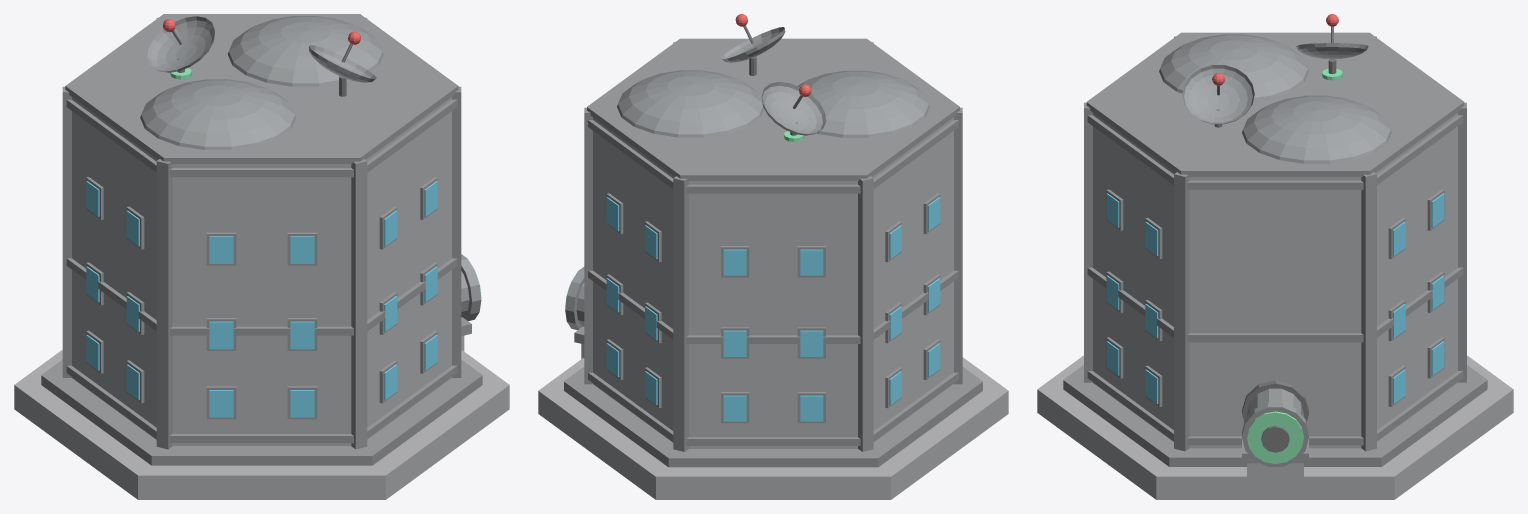
Rendered from analysis_center_s3_100.glb.
3 views of the same model, side by side, from view 1: azimuth 30°, elevation 25°; view 2: azimuth 150°, elevation 25°; view 3: azimuth 270°, elevation 25° (orthographic). The views are drawn at different scales.
Visible parts, largest first — view 1: AC_Walls, AC_Roof, AC_Base, AC_BaseCap, AC_Dome_B, AC_Dome_A, AC_Beam_3, AC_Beam_4, AC_Band_Low, AC_Band_High, AC_Band_Mid, AC_Beam_2 (+10 smaller); view 2: AC_Walls, AC_Roof, AC_Base, AC_BaseCap, AC_Dome_A, AC_Dome_B, AC_Beam_1, AC_Beam_2, AC_Band_High, AC_Band_Low, AC_Band_Mid, AC_DishB (+10 smaller); view 3: AC_Walls, AC_Roof, AC_Base, AC_BaseCap, AC_Dome_A, AC_Dome_B, AC_Beam_0, AC_Beam_5, AC_Band_High, AC_Dish, AC_Band_Mid, AC_Band_Low (+9 smaller).
Boxes of the visible parts, x1,y1,x2,y2 form: AC_Walls: (72, 97, 451, 445); AC_Roof: (65, 14, 458, 163); AC_Base: (14, 350, 509, 499); AC_BaseCap: (41, 359, 482, 465); AC_Dome_B: (140, 79, 296, 149); AC_Dome_A: (227, 16, 383, 86); AC_Beam_3: (156, 159, 172, 449); AC_Beam_4: (351, 159, 367, 449); AC_Band_Low: (66, 365, 457, 443); AC_Band_High: (66, 99, 457, 177); AC_Band_Mid: (66, 258, 457, 335); AC_Beam_2: (62, 86, 71, 377); AC_Walls: (593, 117, 953, 448); AC_Roof: (587, 38, 959, 180); AC_Base: (538, 357, 1008, 499); AC_BaseCap: (564, 367, 982, 467); AC_Dome_A: (617, 70, 763, 137); AC_Dome_B: (798, 70, 929, 137); AC_Beam_1: (673, 176, 688, 451); AC_Beam_2: (858, 176, 873, 451); AC_Band_High: (588, 120, 958, 193); AC_Band_Low: (588, 372, 958, 445); AC_Band_Mid: (588, 270, 958, 343); AC_DishB: (761, 82, 826, 135); AC_Walls: (1093, 113, 1457, 448); AC_Roof: (1086, 32, 1464, 176); AC_Base: (1037, 355, 1513, 499); AC_BaseCap: (1063, 365, 1487, 466); AC_Dome_A: (1242, 95, 1391, 163); AC_Dome_B: (1159, 34, 1308, 101); AC_Beam_0: (1361, 172, 1376, 451); AC_Beam_5: (1174, 172, 1189, 451); AC_Band_High: (1087, 115, 1463, 189); AC_Dish: (1182, 65, 1254, 124); AC_Band_Mid: (1087, 267, 1463, 342); AC_Band_Low: (1087, 371, 1463, 445).
Size of the model in its own units: 1.69 by 1.57 by 1.84.
